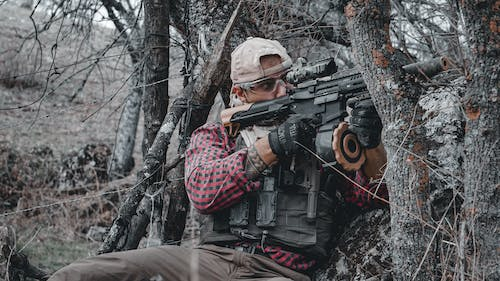gun: (216, 53, 451, 173)
